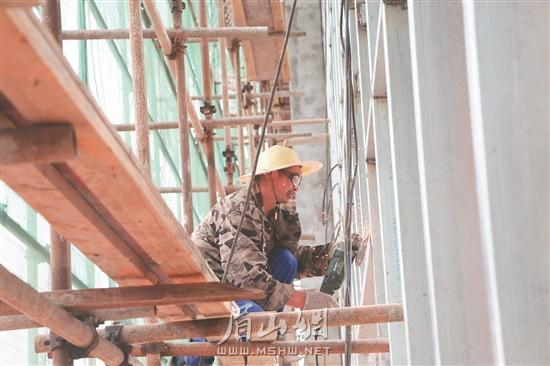helmet: (252, 145, 311, 180)
